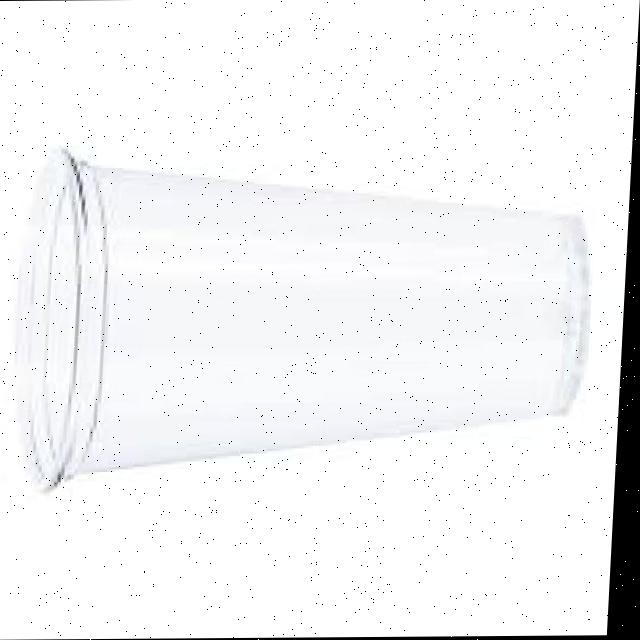cup: (0, 126, 630, 494)
